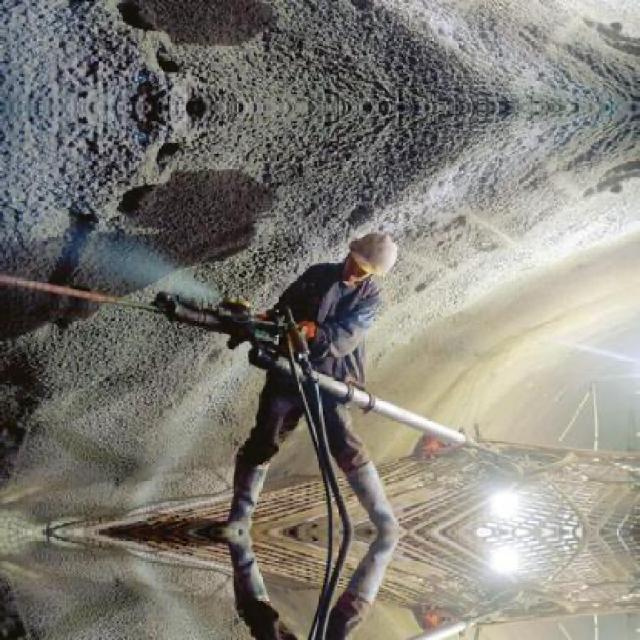helmet: (342, 231, 400, 283)
